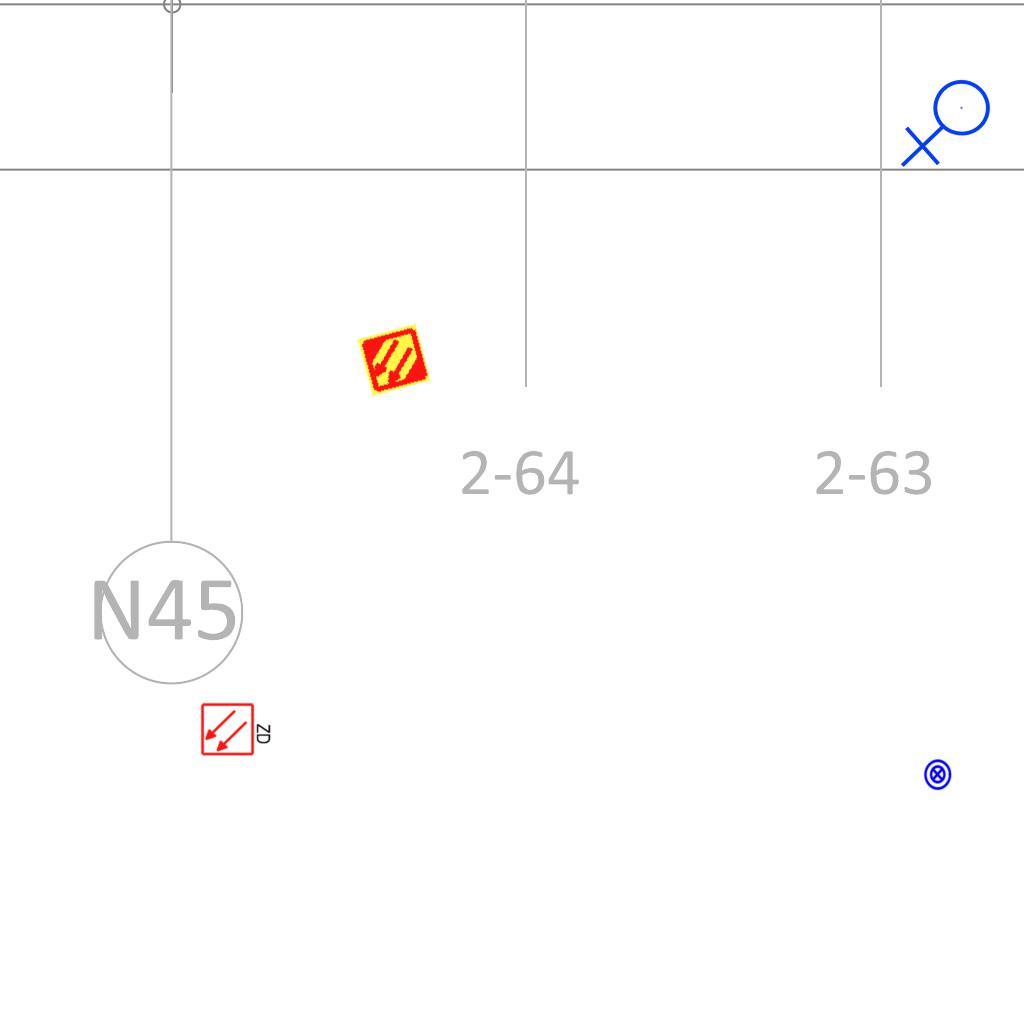ASR_Ansaugrauchmelder: (356, 322, 432, 398)
Elektroanschluss_allgemein_230V_Geraeteanschlussdose_230V: (900, 78, 999, 172)
Taster_beleuchtet: (921, 758, 954, 791)
ZD_Melder_in_Zwischendecke_mit_Revisionsoeffnung_mind_40_x_40_cm: (200, 700, 274, 757)
